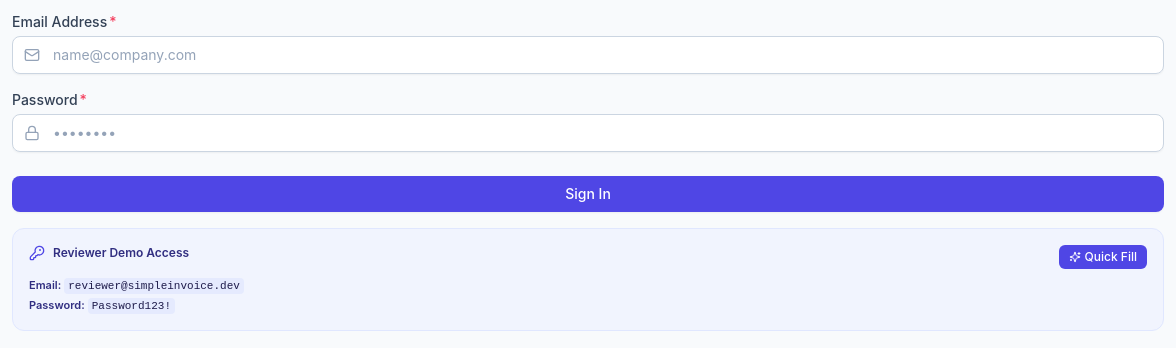
it: LoginForm Component › populates fields when Quick Fill button is clicked
Click the button "Quick Fill" at [1103, 257], box x1=1058 y1=245 x2=1147 y2=269
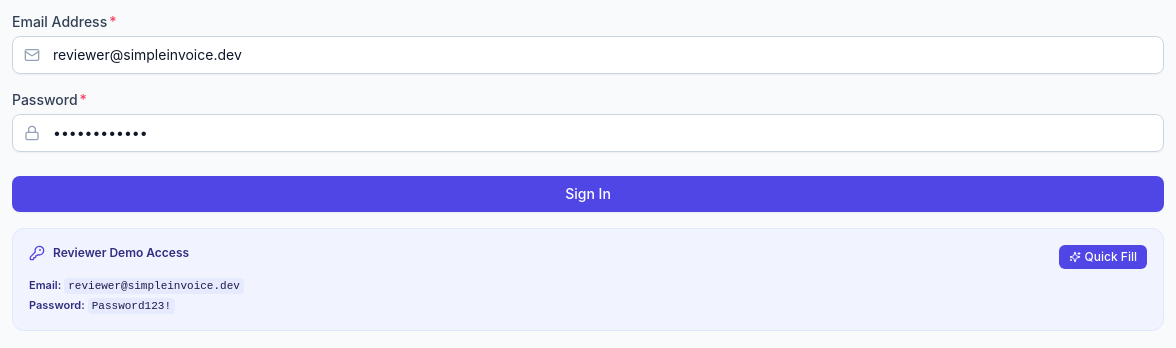
Check: the field labelled "Email Address*" holds "reviewer@simpleinvoice.dev", box x1=12 y1=36 x2=1164 y2=74
Check: the password field labelled "Password*" holds "Password123!", box x1=12 y1=114 x2=1164 y2=152
